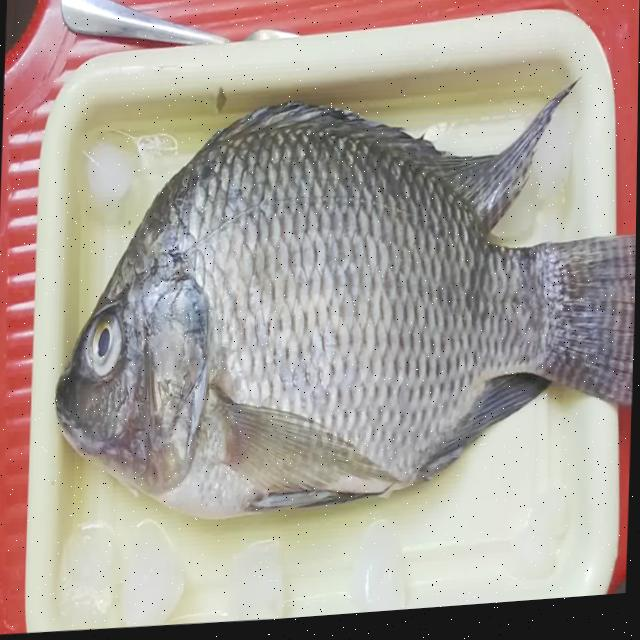Fresh: (151, 103, 411, 540), (78, 295, 131, 392)
